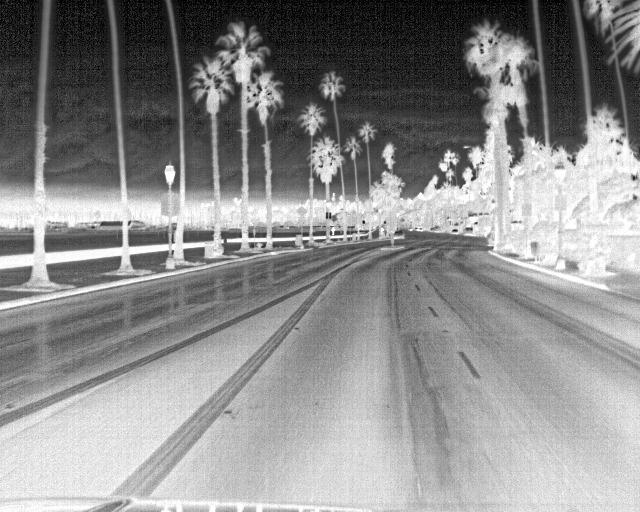car: (393, 228, 406, 240), (463, 225, 475, 236), (450, 227, 460, 235)
